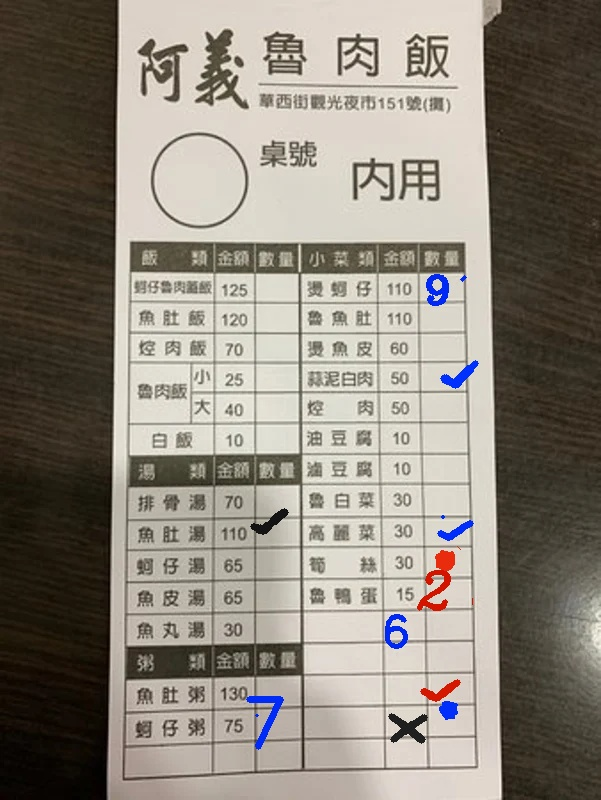marked_circle: (431, 704, 474, 732), (427, 549, 470, 577)
marked_number_2: (429, 579, 472, 607)
marked_number_6: (382, 609, 425, 637)
marked_number_7: (256, 709, 299, 737)
marked_number_9: (419, 274, 462, 302)
marked_tick: (429, 673, 472, 701), (256, 518, 299, 546), (426, 517, 469, 545), (421, 361, 464, 389)
marked_x: (384, 705, 427, 733)
